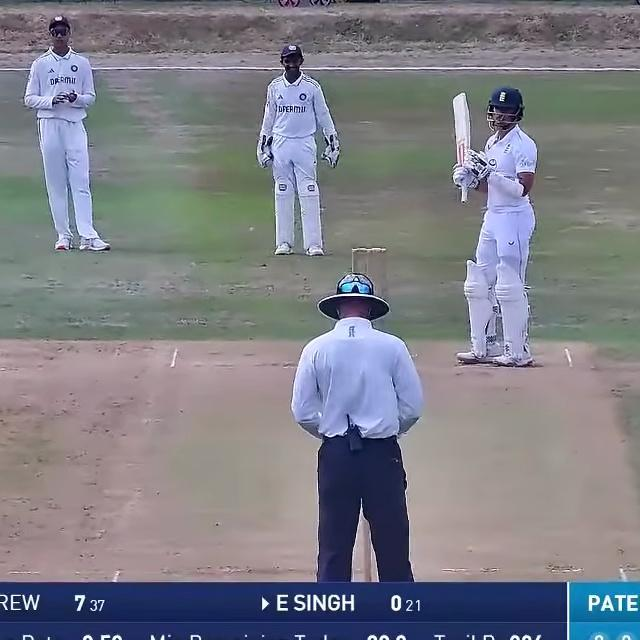umpire: (274, 260, 443, 584)
